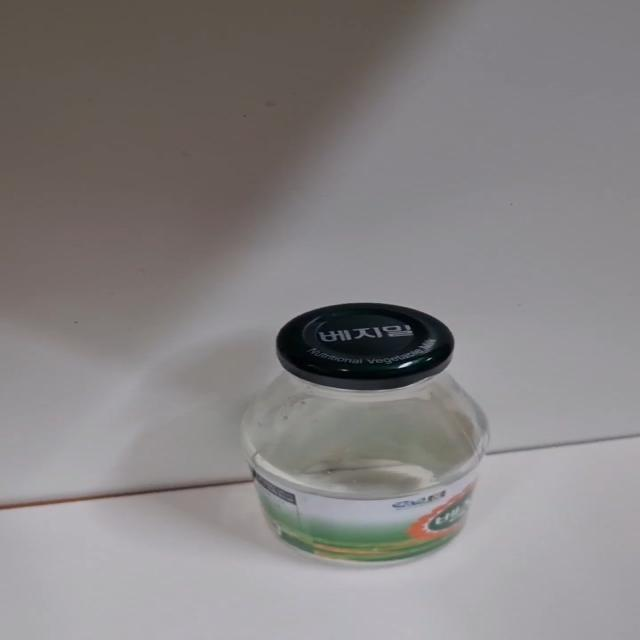Glass: (240, 303, 491, 566)
